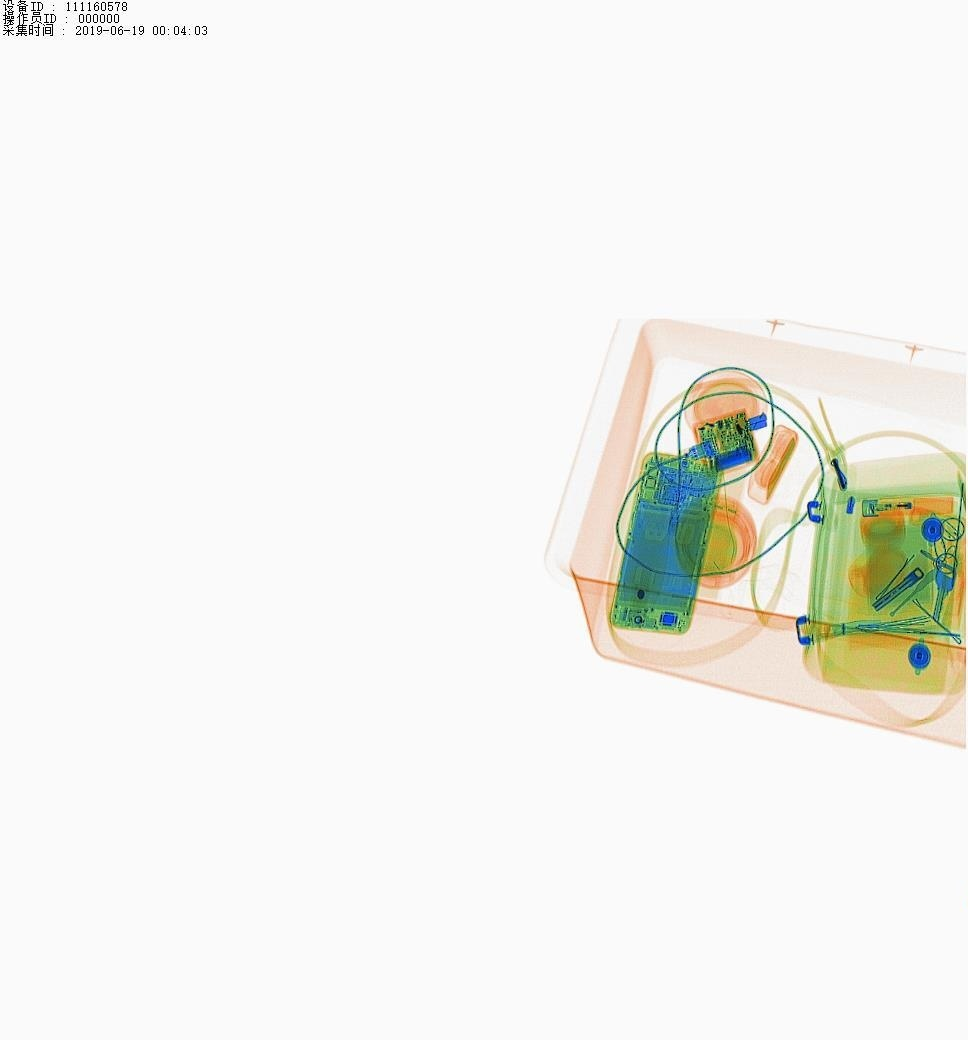NonmetallicFire: (844, 473, 958, 527)
